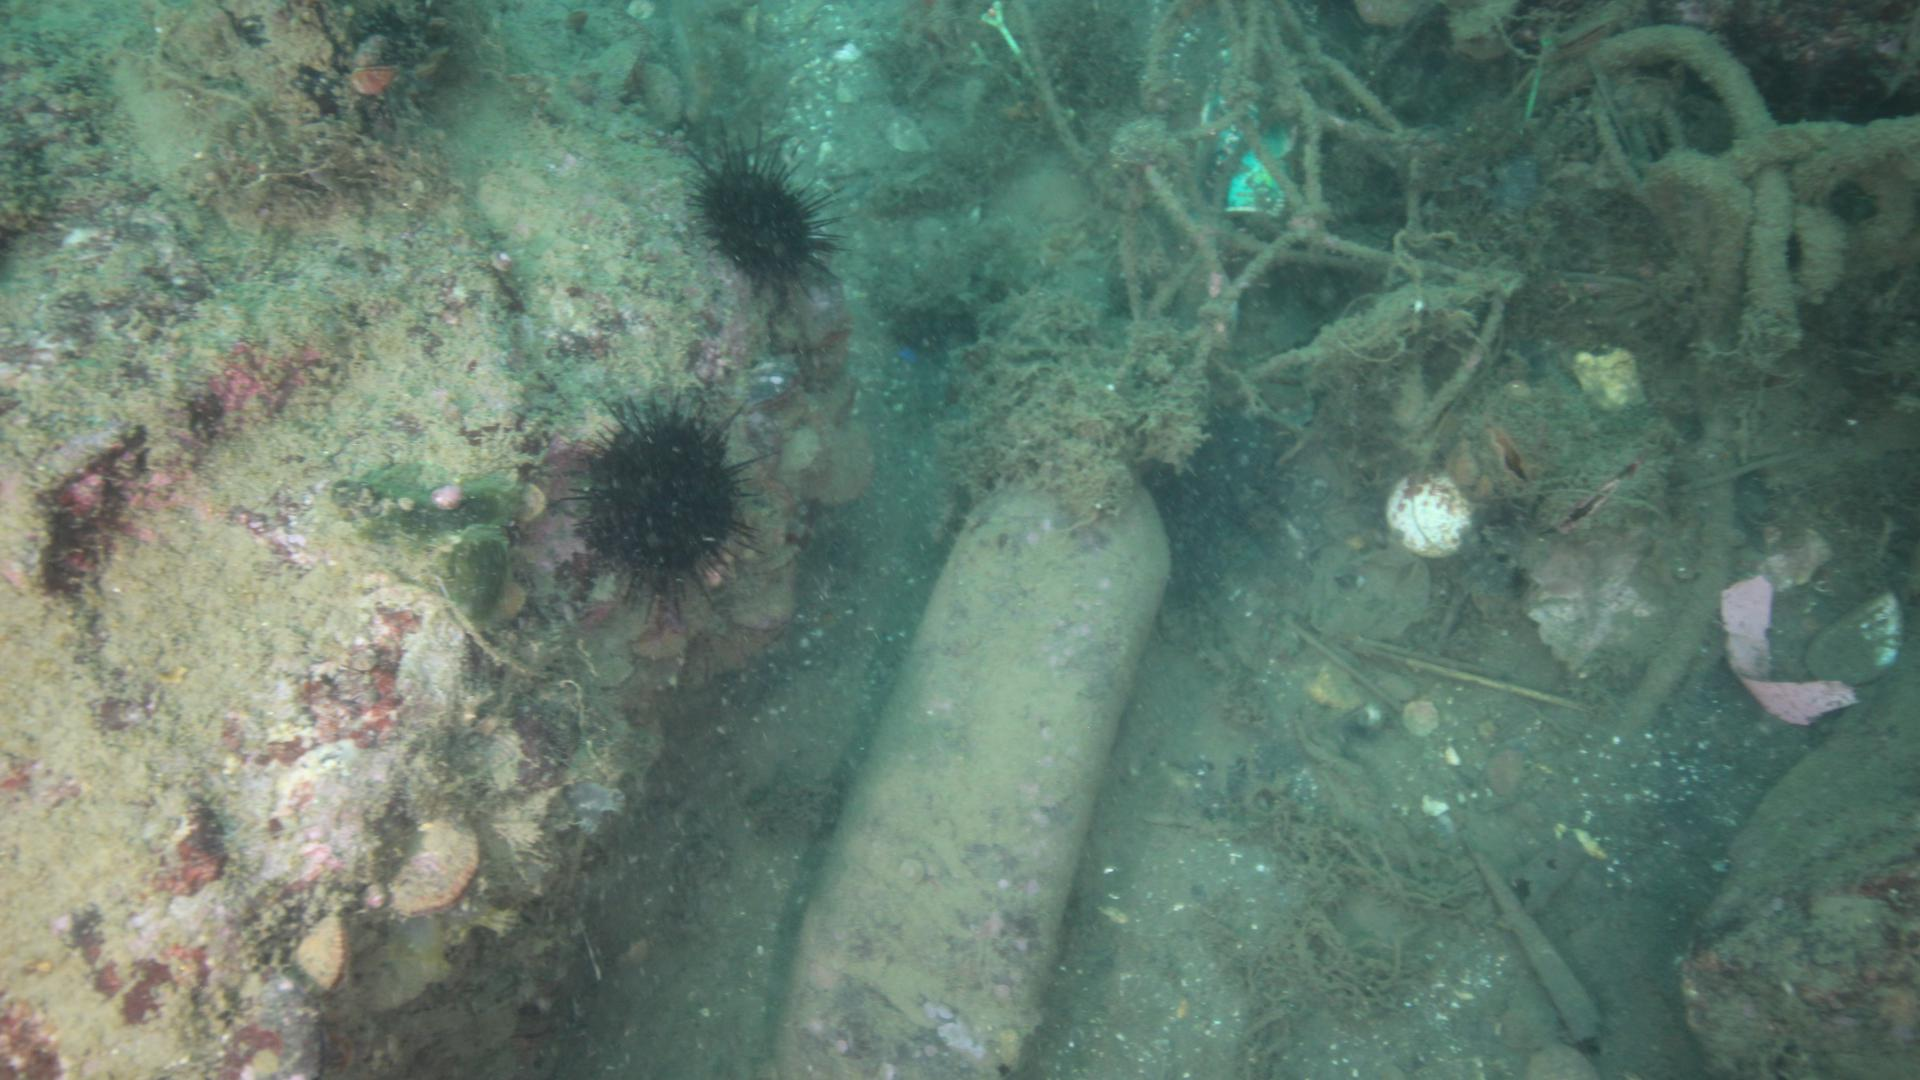bundle of ropes: (1011, 0, 1509, 440)
